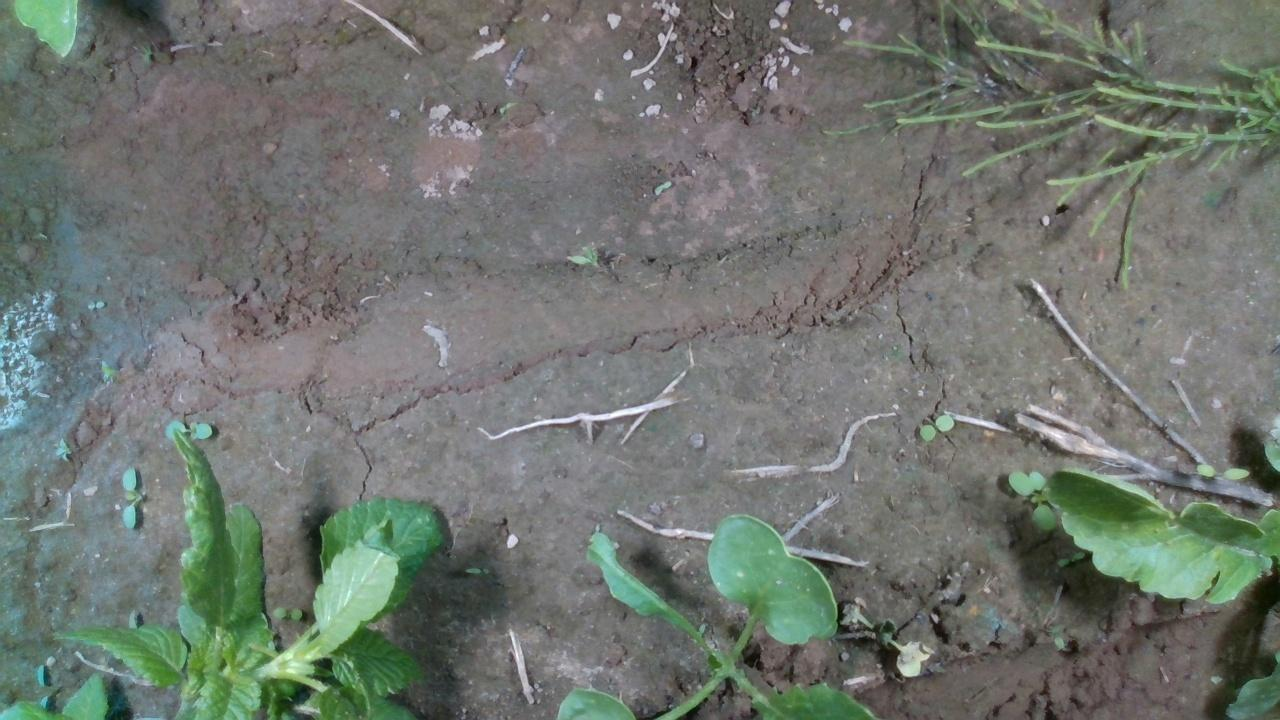weed: (119, 463, 137, 529), (917, 412, 956, 441), (1193, 462, 1250, 480), (53, 436, 73, 463), (271, 605, 303, 621), (86, 298, 107, 310)
